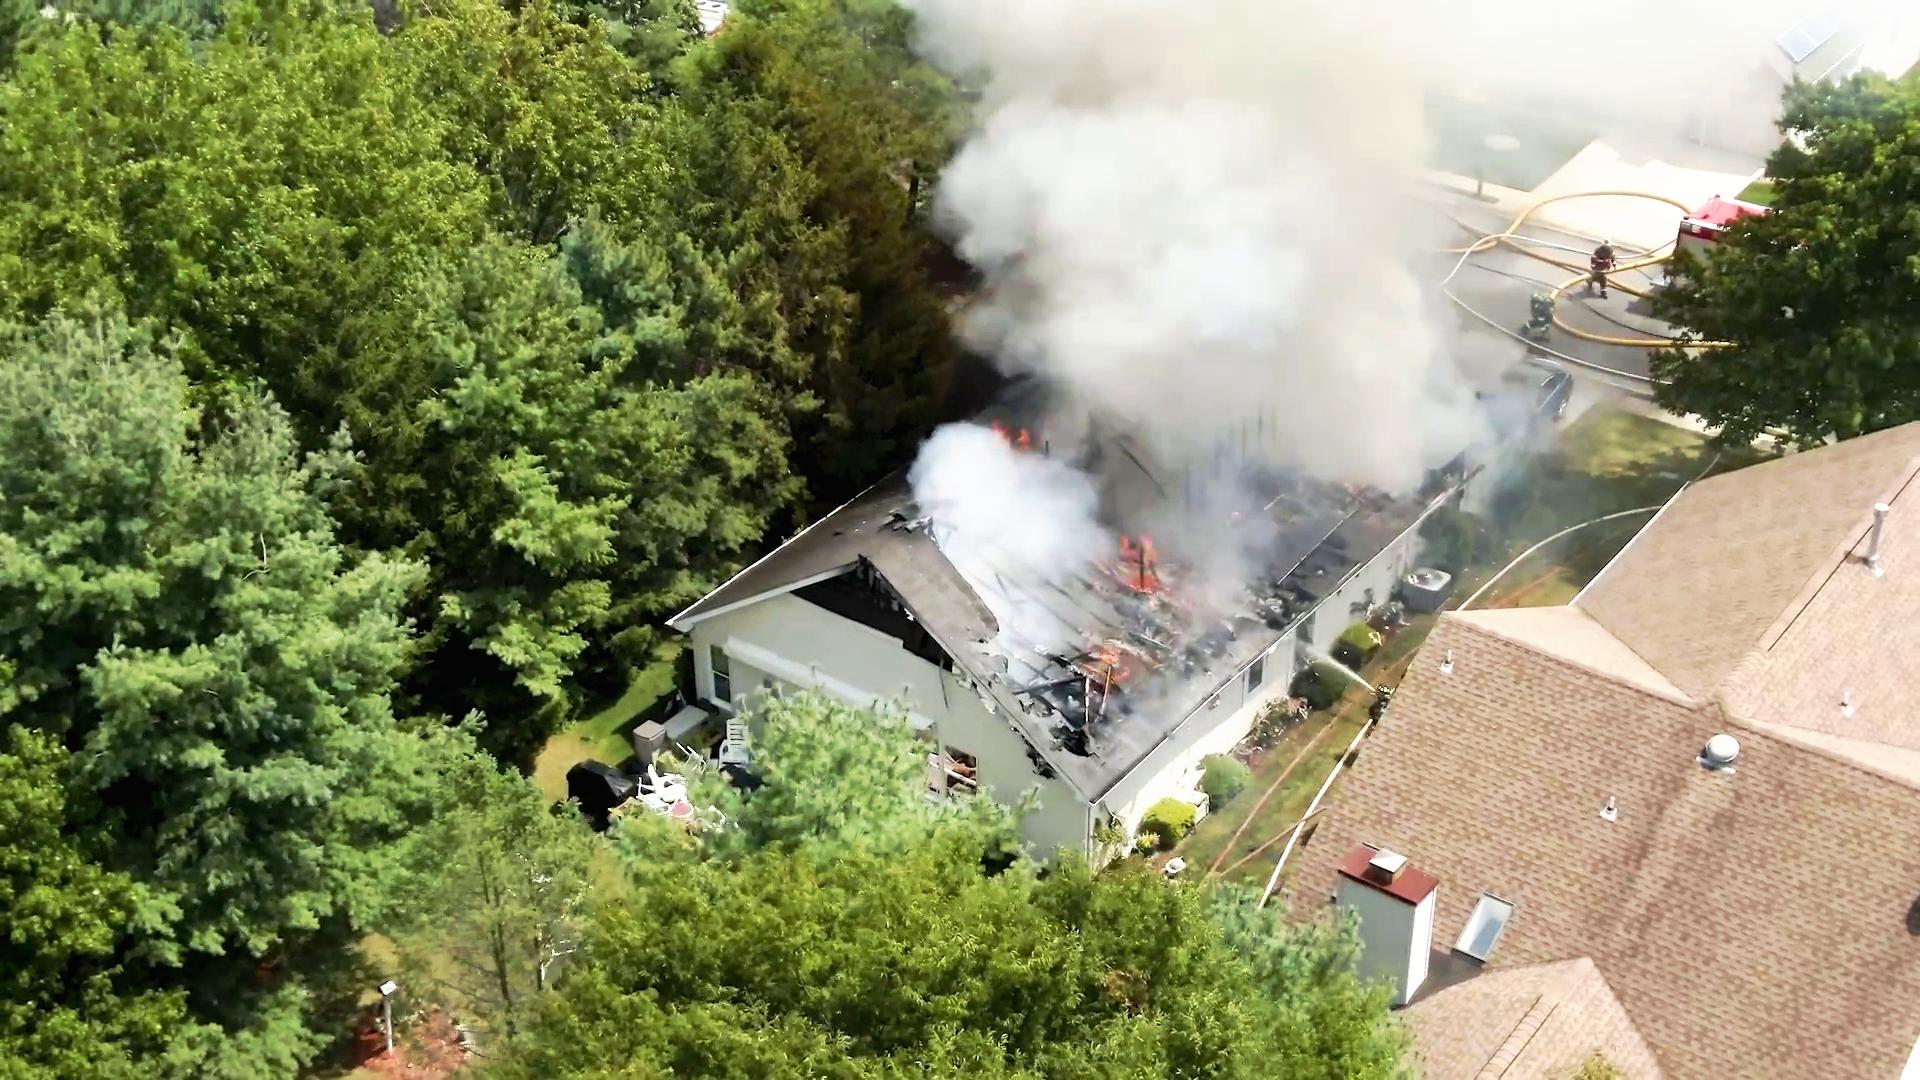smoke: (990, 0, 1411, 448)
